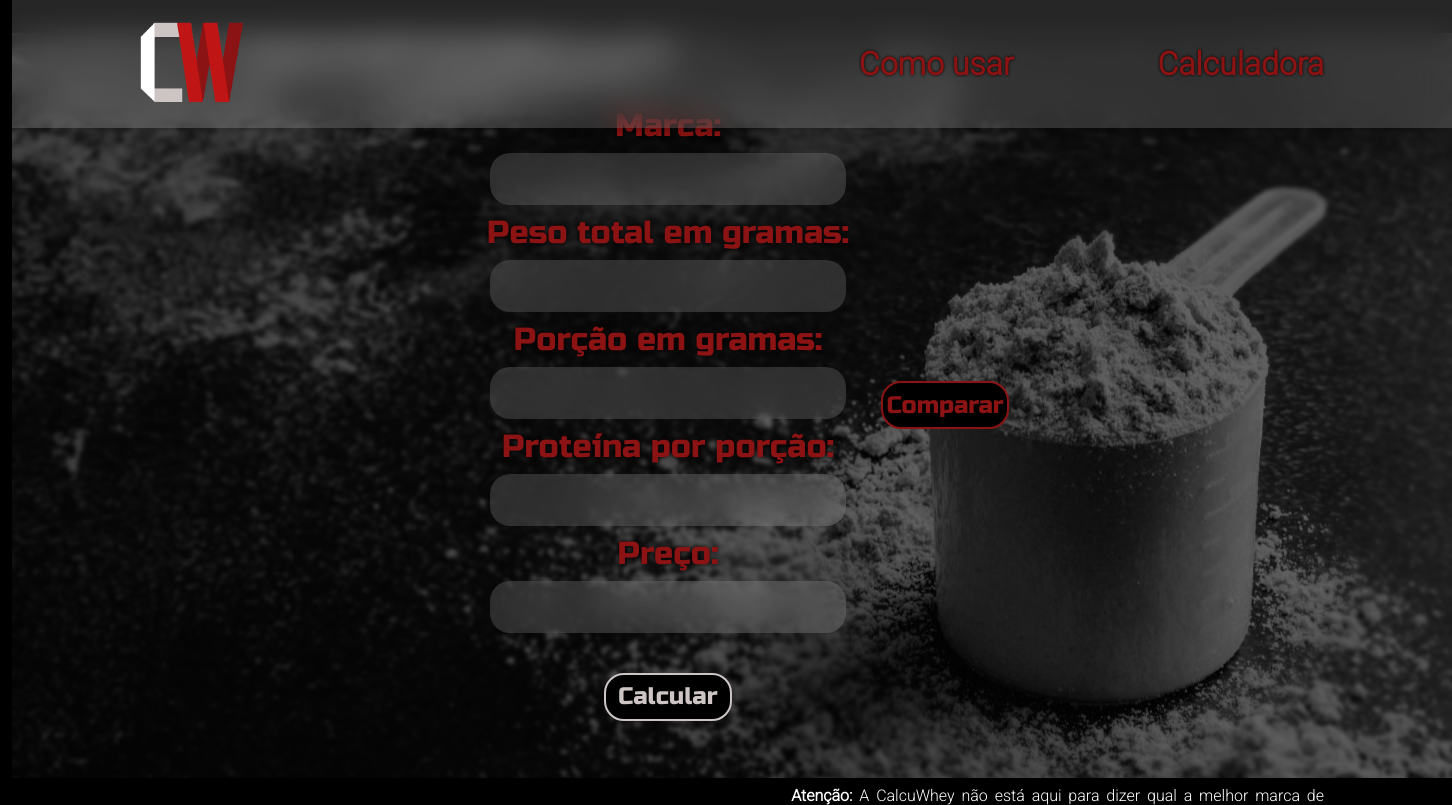
it: Tests WheyForm area › Should render second WheyForm
(page scrolled)
Click the button with test id "compare-test". click: (945, 405)
box: [881, 381, 1009, 429]
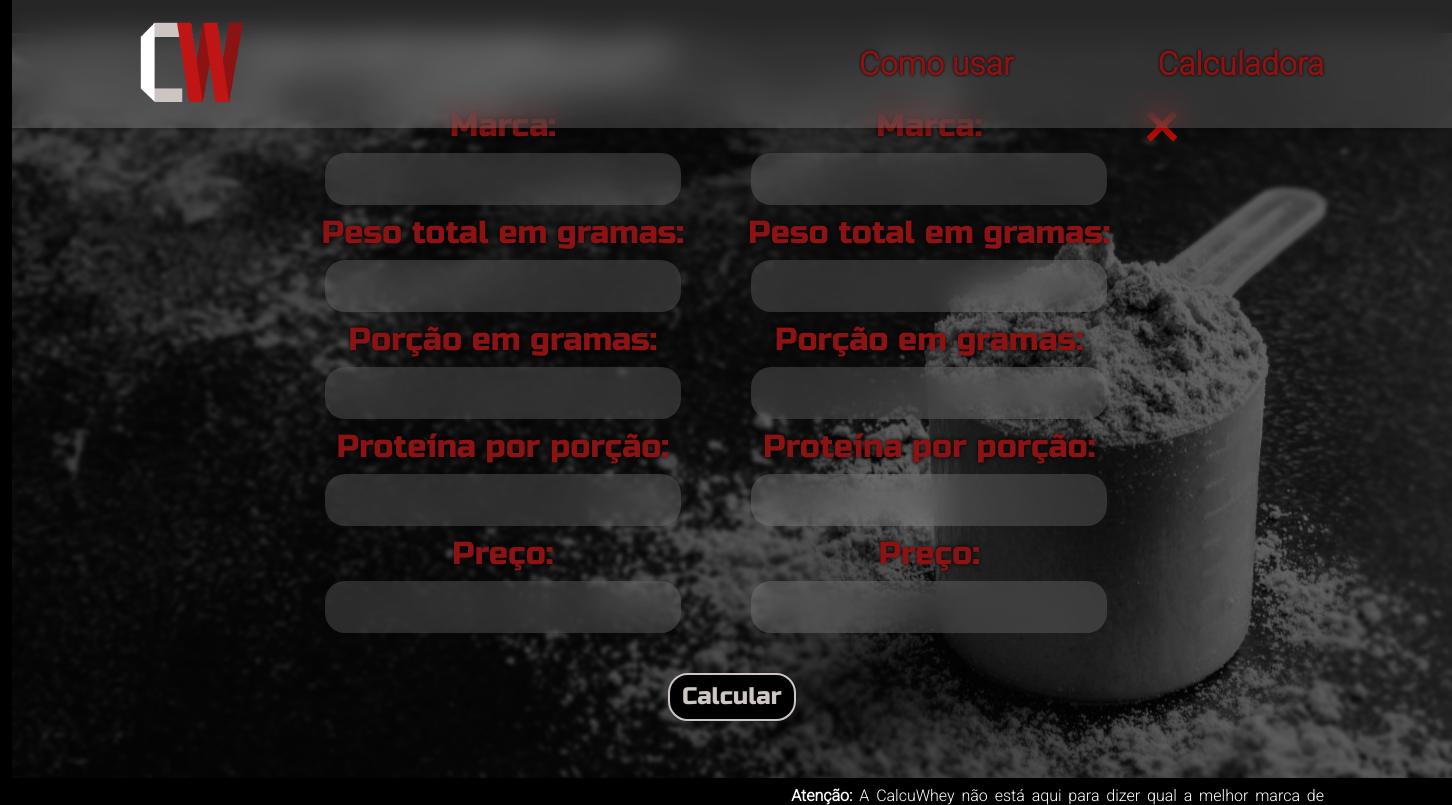
Result: the form with test id "form-test-1" is shown at [716, 74, 1174, 673]
